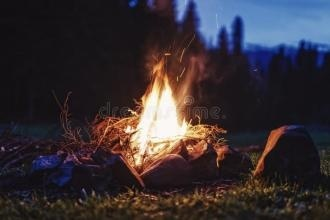fire: (128, 59, 188, 151)
